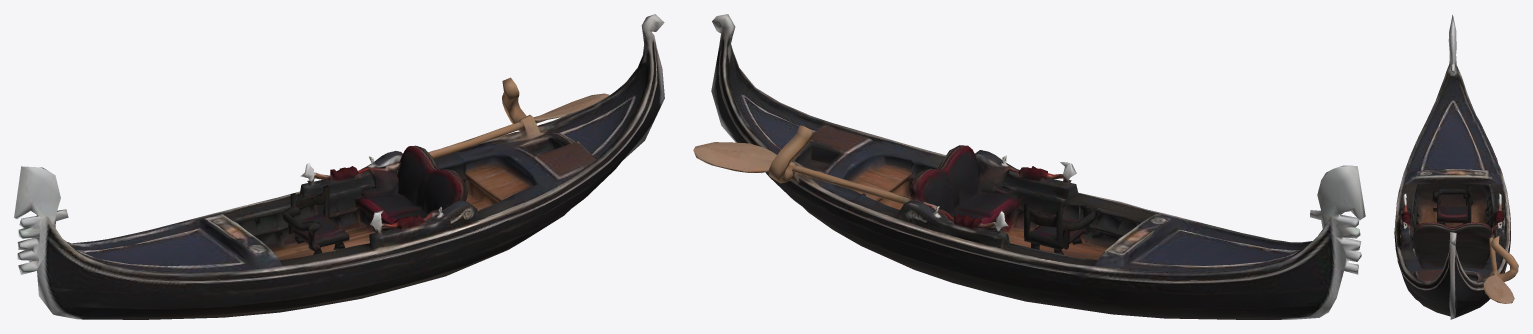
Rendered from gondola.glb.
3 views of the same model, side by side, from view 1: azimuth 30°, elevation 25°; view 2: azimuth 150°, elevation 25°; view 3: azimuth 270°, elevation 25° (orthographic). The views are drawn at different scales.
Parts seen in each view (by area): view 1: tripo_node_bf71b8d7-2c90-40ad-9372-9af894973e98; view 2: tripo_node_bf71b8d7-2c90-40ad-9372-9af894973e98; view 3: tripo_node_bf71b8d7-2c90-40ad-9372-9af894973e98.
Boxes of the visible parts, x1=… form: tripo_node_bf71b8d7-2c90-40ad-9372-9af894973e98: x1=14, y1=14, x2=664, y2=319; tripo_node_bf71b8d7-2c90-40ad-9372-9af894973e98: x1=693, y1=14, x2=1365, y2=319; tripo_node_bf71b8d7-2c90-40ad-9372-9af894973e98: x1=1394, y1=15, x2=1518, y2=319.
Size of the model in its own units: 0.9848 by 0.2829 by 0.2323.
1 material, 1 textured.
